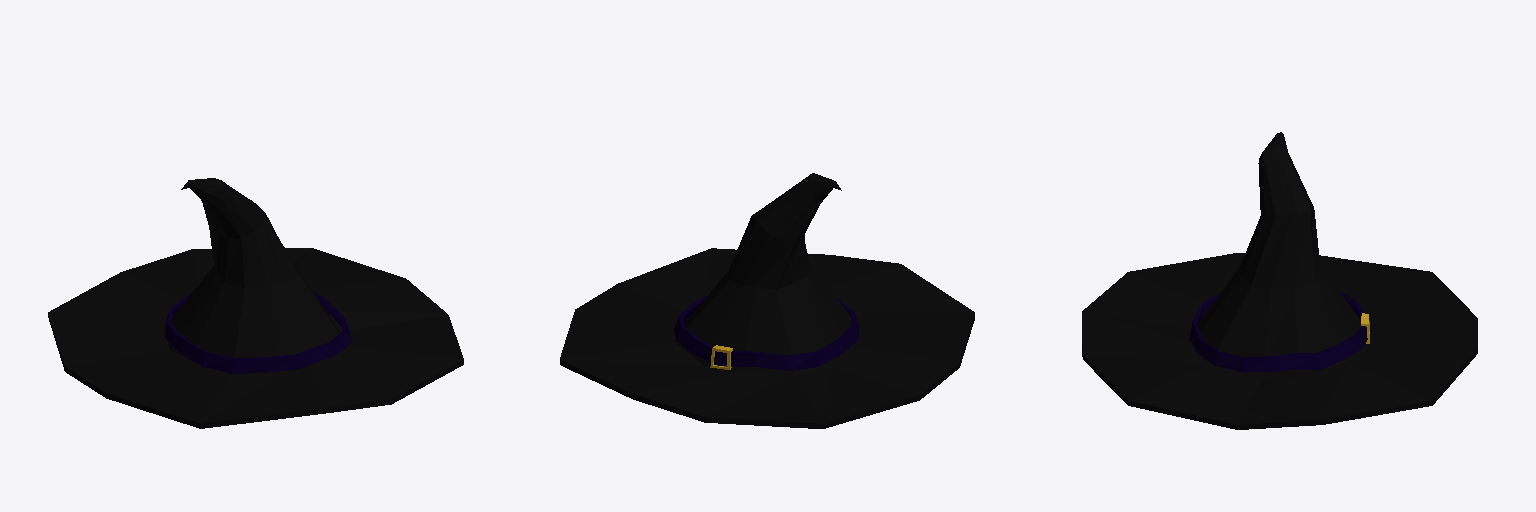
The model's file is WitchHat.obj.
3 views of the same model, side by side, from view 1: azimuth 30°, elevation 25°; view 2: azimuth 150°, elevation 25°; view 3: azimuth 270°, elevation 25° (orthographic).
Parts seen in each view (by area): view 1: Witch_Hat_Plane.001; view 2: Witch_Hat_Plane.001; view 3: Witch_Hat_Plane.001.
Boxes of the visible parts, x1,y1,x2,y2 form: Witch_Hat_Plane.001: [48, 178, 463, 428]; Witch_Hat_Plane.001: [560, 173, 974, 428]; Witch_Hat_Plane.001: [1082, 132, 1477, 429].
Size of the model in its own units: 1 by 0.5125 by 1.